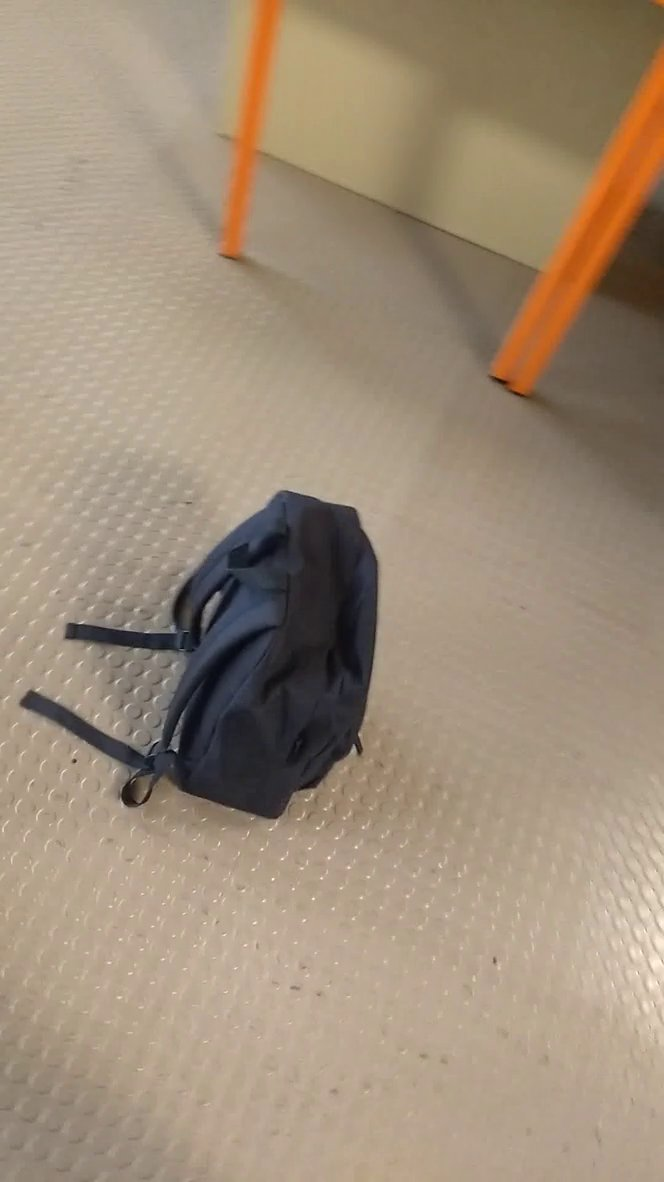bag: (18, 483, 402, 842)
